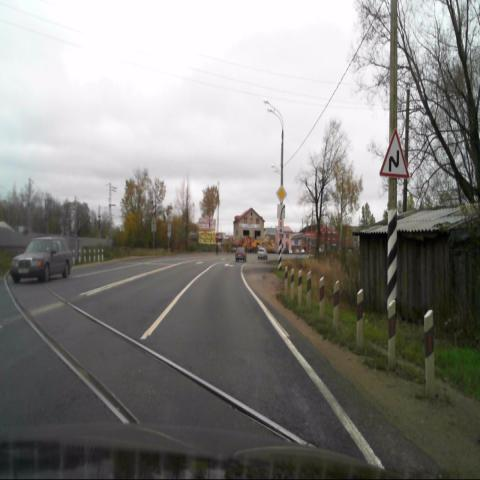1_12: (379, 129, 408, 179)
